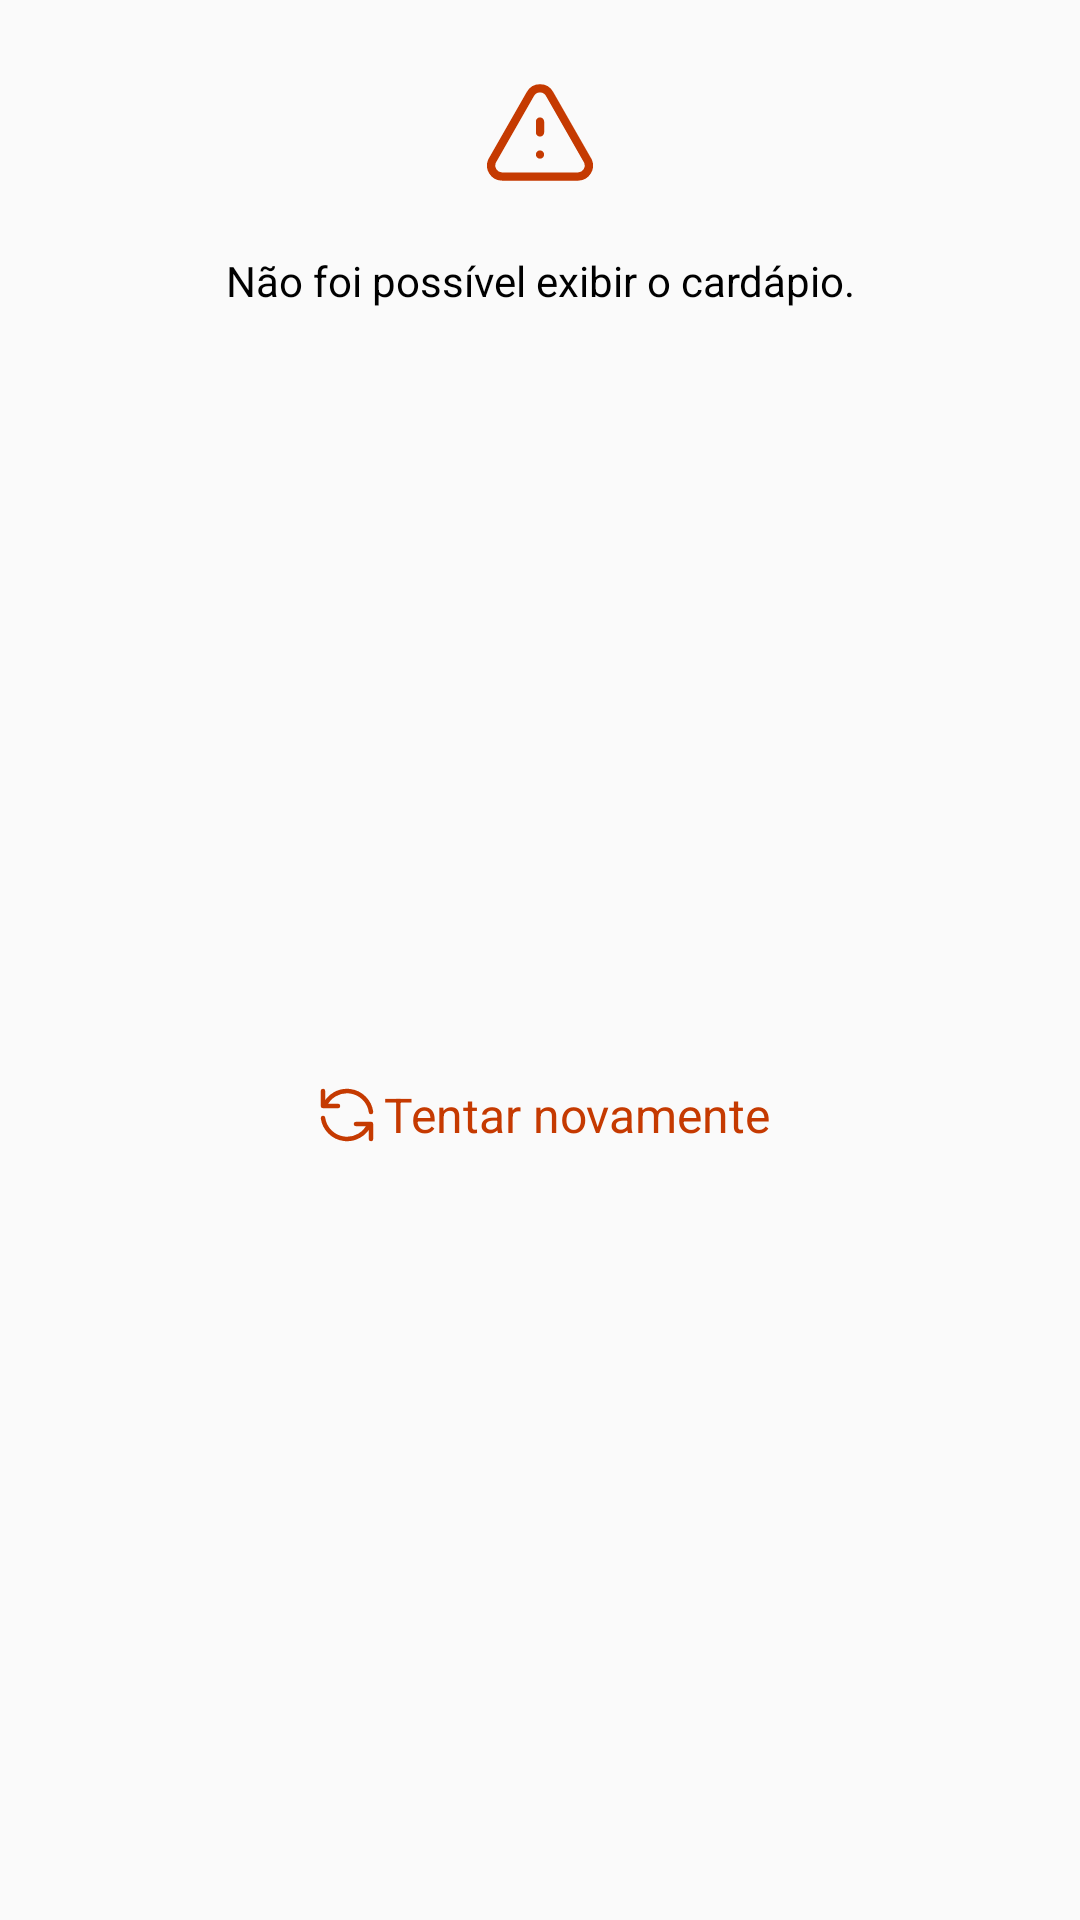

Screen size 1080 x 1920. Icon name, then its box in pixels as (x1, y1, x2, y2):
alert: (487, 84, 593, 181)
